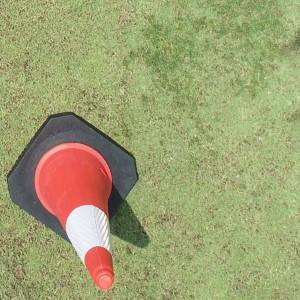traffic cone: (7, 111, 139, 289)
